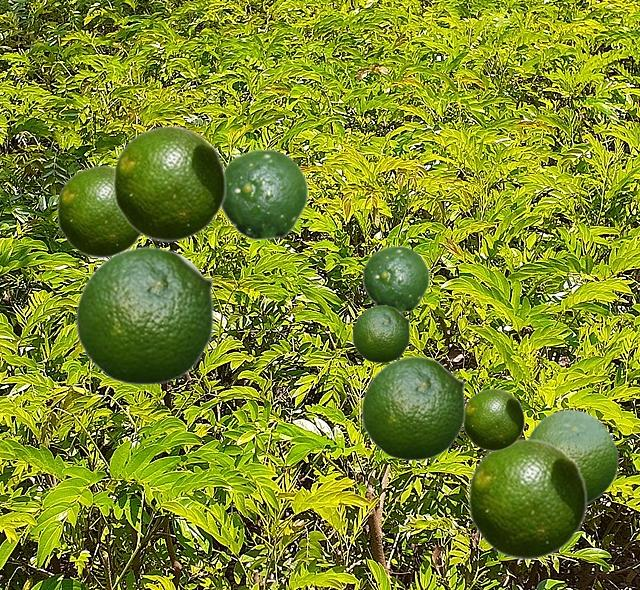calamansi: (75, 246, 214, 385), (467, 438, 587, 559), (112, 125, 226, 241), (361, 356, 465, 460), (526, 408, 618, 504), (220, 148, 308, 240), (56, 165, 141, 257), (362, 245, 429, 313), (463, 388, 524, 450), (352, 305, 409, 362)
